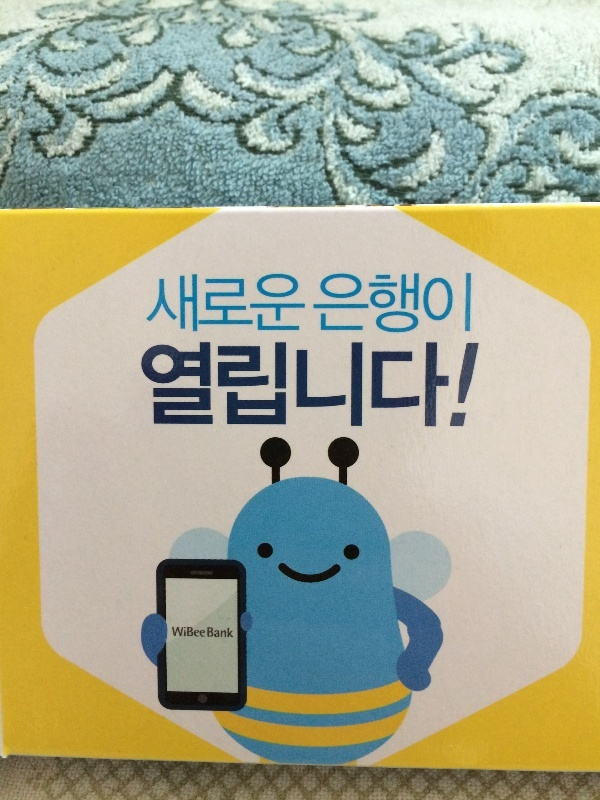text: (145, 339, 160, 438), (161, 339, 176, 438), (177, 339, 192, 438), (193, 339, 208, 438), (209, 339, 224, 438), (225, 339, 240, 438), (241, 339, 256, 438), (257, 339, 272, 438), (273, 339, 288, 438), (289, 339, 304, 438), (305, 339, 320, 438), (321, 339, 336, 438), (337, 339, 352, 438), (353, 339, 368, 438), (369, 339, 384, 438), (385, 339, 400, 438), (401, 339, 416, 438), (417, 339, 432, 438), (433, 339, 448, 438), (449, 339, 464, 438), (465, 339, 480, 438), (321, 267, 336, 339), (337, 267, 352, 339), (353, 267, 368, 339), (369, 267, 384, 339), (385, 267, 400, 339), (401, 267, 416, 339), (417, 267, 432, 339), (433, 267, 448, 339), (449, 267, 464, 339), (161, 272, 176, 336), (177, 272, 192, 336), (193, 272, 208, 336), (209, 272, 224, 336), (225, 272, 240, 336), (241, 272, 256, 336), (257, 272, 272, 336), (273, 272, 288, 336), (289, 272, 304, 336), (465, 267, 474, 339), (153, 272, 160, 336), (141, 339, 144, 438), (316, 267, 320, 339), (209, 626, 224, 640), (177, 626, 192, 638), (193, 626, 205, 638), (305, 272, 307, 336), (225, 626, 233, 640), (481, 339, 482, 438), (172, 626, 176, 638), (207, 626, 208, 640)
